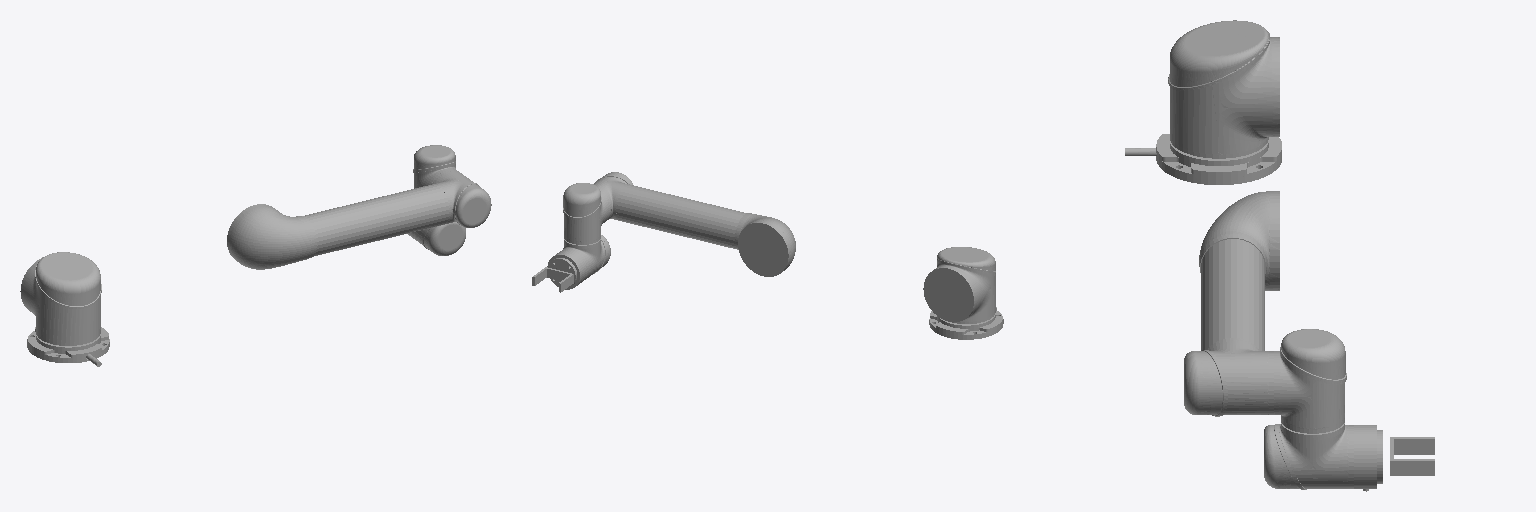
robot.urdf — ur5:
<?xml version="1.0" ?>
<!-- =================================================================================== -->
<!-- |    This document was autogenerated by xacro from [local-path]/devel/isae/install/share/ur_description/urdf/ur5_joint_limited_robot.urdf.xacro | -->
<!-- |    EDITING THIS FILE BY HAND IS NOT RECOMMENDED                                 | -->
<!-- =================================================================================== -->
<robot name="ur5" xmlns:xacro="http://www.ros.org/wiki/xacro">
  <!-- common stuff -->
  <gazebo>
    <plugin filename="libgazebo_ros_control.so" name="ros_control">
      <!--robotNamespace>/</robotNamespace-->
      <!--robotSimType>gazebo_ros_control/DefaultRobotHWSim</robotSimType-->
    </plugin>
    <!--
    <plugin name="gazebo_ros_power_monitor_controller" filename="libgazebo_ros_power_monitor.so">
      <alwaysOn>true</alwaysOn>
      <updateRate>1.0</updateRate>
      <timeout>5</timeout>
      <powerStateTopic>power_state</powerStateTopic>
      <powerStateRate>10.0</powerStateRate>
      <fullChargeCapacity>87.78</fullChargeCapacity>
      <dischargeRate>-474</dischargeRate>
      <chargeRate>525</chargeRate>
      <dischargeVoltage>15.52</dischargeVoltage>
      <chargeVoltage>16.41</chargeVoltage>
    </plugin>
-->
  </gazebo>
  <!-- ur5 -->
  <!-- Inertia parameters -->
  <!-- This mass might be incorrect -->
  <!-- Kinematic model -->
  <!-- Properties from urcontrol.conf -->
  <!--
    DH for UR5:
    a = [0.00000, -0.42500, -0.39225,  0.00000,  0.00000,  0.0000]
    d = [0.089159,  0.00000,  0.00000,  0.10915,  0.09465,  0.0823]
    alpha = [ 1.570796327, 0, 0, 1.570796327, -1.570796327, 0 ]
    q_home_offset = [0, -1.570796327, 0, -1.570796327, 0, 0]
    joint_direction = [-1, -1, 1, 1, 1, 1]
    mass = [3.7000, 8.3930, 2.2750, 1.2190, 1.2190, 0.1879]
    center_of_mass = [ [0, -0.02561, 0.00193], [0.2125, 0, 0.11336], [0.11993, 0.0, 0.0265], [0, -0.0018, 0.01634], [0, 0.0018,0.01634], [0, 0, -0.001159] ]
  -->
  <!-- Arbitrary offsets for shoulder/elbow joints -->
  <!-- measured from model -->
  <!-- measured from model -->
  <!-- link lengths used in model -->
  <!--property name="shoulder_height" value="0.089159" /-->
  <!--property name="shoulder_offset" value="0.13585" /-->
  <!-- shoulder_offset - elbow_offset + wrist_1_length = 0.10915 -->
  <!--property name="upper_arm_length" value="0.42500" /-->
  <!--property name="elbow_offset" value="0.1197" /-->
  <!-- CAD measured -->
  <!--property name="forearm_length" value="0.39225" /-->
  <!--property name="wrist_1_length" value="0.093" /-->
  <!-- CAD measured -->
  <!--property name="wrist_2_length" value="0.09465" /-->
  <!-- In CAD this distance is 0.930, but in the spec it is 0.09465 -->
  <!--property name="wrist_3_length" value="0.0823" /-->
  <!-- manually measured -->
  <!-- manually measured -->
  <!-- manually measured -->
  <!-- manually measured -->
  <!-- manually measured -->
  <!-- arm -->
  <link name="base_link">
    <visual>
      <geometry>
        <mesh filename="package://ur_description/meshes/ur5/visual/base.dae"/>
      </geometry>
      <material name="LightGrey">
        <color rgba="0.7 0.7 0.7 1.0"/>
      </material>
    </visual>
    <collision>
      <geometry>
        <mesh filename="package://ur_description/meshes/ur5/collision/base.stl"/>
      </geometry>
    </collision>
    <inertial>
      <mass value="4.0"/>
      <origin rpy="0 0 0" xyz="0.0 0.0 0.0"/>
      <inertia ixx="0.00443333156" ixy="0.0" ixz="0.0" iyy="0.00443333156" iyz="0.0" izz="0.0072"/>
    </inertial>
  </link>
  <joint name="shoulder_pan_joint" type="revolute">
    <parent link="base_link"/>
    <child link="shoulder_link"/>
    <origin rpy="0.0 0.0 0.0" xyz="0.0 0.0 0.089159"/>
    <axis xyz="0 0 1"/>
    <limit effort="150.0" lower="-3.14159265" upper="3.14159265" velocity="3.15"/>
    <dynamics damping="0.0" friction="0.0"/>
  </joint>
  <link name="shoulder_link">
    <visual>
      <geometry>
        <mesh filename="package://ur_description/meshes/ur5/visual/shoulder.dae"/>
      </geometry>
      <material name="LightGrey">
        <color rgba="0.7 0.7 0.7 1.0"/>
      </material>
    </visual>
    <collision>
      <geometry>
        <mesh filename="package://ur_description/meshes/ur5/collision/shoulder.stl"/>
      </geometry>
    </collision>
    <inertial>
      <mass value="3.7"/>
      <origin rpy="0 0 0" xyz="0.0 0.0 0.0"/>
      <inertia ixx="0.010267495893" ixy="0.0" ixz="0.0" iyy="0.010267495893" iyz="0.0" izz="0.00666"/>
    </inertial>
  </link>
  <joint name="shoulder_lift_joint" type="revolute">
    <parent link="shoulder_link"/>
    <child link="upper_arm_link"/>
    <origin rpy="0.0 1.570796325 0.0" xyz="0.0 0.13585 0.0"/>
    <axis xyz="0 1 0"/>
    <limit effort="150.0" lower="-3.14159265" upper="3.14159265" velocity="3.15"/>
    <dynamics damping="0.0" friction="0.0"/>
  </joint>
  <link name="upper_arm_link">
    <visual>
      <geometry>
        <mesh filename="package://ur_description/meshes/ur5/visual/upperarm.dae"/>
      </geometry>
      <material name="LightGrey">
        <color rgba="0.7 0.7 0.7 1.0"/>
      </material>
    </visual>
    <collision>
      <geometry>
        <mesh filename="package://ur_description/meshes/ur5/collision/upperarm.stl"/>
      </geometry>
    </collision>
    <inertial>
      <mass value="8.393"/>
      <origin rpy="0 0 0" xyz="0.0 0.0 0.28"/>
      <inertia ixx="0.22689067591" ixy="0.0" ixz="0.0" iyy="0.22689067591" iyz="0.0" izz="0.0151074"/>
    </inertial>
  </link>
  <joint name="elbow_joint" type="revolute">
    <parent link="upper_arm_link"/>
    <child link="forearm_link"/>
    <origin rpy="0.0 0.0 0.0" xyz="0.0 -0.1197 0.425"/>
    <axis xyz="0 1 0"/>
    <limit effort="150.0" lower="-3.14159265" upper="3.14159265" velocity="3.15"/>
    <dynamics damping="0.0" friction="0.0"/>
  </joint>
  <link name="forearm_link">
    <visual>
      <geometry>
        <mesh filename="package://ur_description/meshes/ur5/visual/forearm.dae"/>
      </geometry>
      <material name="LightGrey">
        <color rgba="0.7 0.7 0.7 1.0"/>
      </material>
    </visual>
    <collision>
      <geometry>
        <mesh filename="package://ur_description/meshes/ur5/collision/forearm.stl"/>
      </geometry>
    </collision>
    <inertial>
      <mass value="2.275"/>
      <origin rpy="0 0 0" xyz="0.0 0.0 0.25"/>
      <inertia ixx="0.049443313556" ixy="0.0" ixz="0.0" iyy="0.049443313556" iyz="0.0" izz="0.004095"/>
    </inertial>
  </link>
  <joint name="wrist_1_joint" type="revolute">
    <parent link="forearm_link"/>
    <child link="wrist_1_link"/>
    <origin rpy="0.0 1.570796325 0.0" xyz="0.0 0.0 0.39225"/>
    <axis xyz="0 1 0"/>
    <limit effort="28.0" lower="-3.14159265" upper="3.14159265" velocity="3.2"/>
    <dynamics damping="0.0" friction="0.0"/>
  </joint>
  <link name="wrist_1_link">
    <visual>
      <geometry>
        <mesh filename="package://ur_description/meshes/ur5/visual/wrist1.dae"/>
      </geometry>
      <material name="LightGrey">
        <color rgba="0.7 0.7 0.7 1.0"/>
      </material>
    </visual>
    <collision>
      <geometry>
        <mesh filename="package://ur_description/meshes/ur5/collision/wrist1.stl"/>
      </geometry>
    </collision>
    <inertial>
      <mass value="1.219"/>
      <origin rpy="0 0 0" xyz="0.0 0.0 0.0"/>
      <inertia ixx="0.111172755531" ixy="0.0" ixz="0.0" iyy="0.111172755531" iyz="0.0" izz="0.21942"/>
    </inertial>
  </link>
  <joint name="wrist_2_joint" type="revolute">
    <parent link="wrist_1_link"/>
    <child link="wrist_2_link"/>
    <origin rpy="0.0 0.0 0.0" xyz="0.0 0.093 0.0"/>
    <axis xyz="0 0 1"/>
    <limit effort="28.0" lower="-3.14159265" upper="3.14159265" velocity="3.2"/>
    <dynamics damping="0.0" friction="0.0"/>
  </joint>
  <link name="wrist_2_link">
    <visual>
      <geometry>
        <mesh filename="package://ur_description/meshes/ur5/visual/wrist2.dae"/>
      </geometry>
      <material name="LightGrey">
        <color rgba="0.7 0.7 0.7 1.0"/>
      </material>
    </visual>
    <collision>
      <geometry>
        <mesh filename="package://ur_description/meshes/ur5/collision/wrist2.stl"/>
      </geometry>
    </collision>
    <inertial>
      <mass value="1.219"/>
      <origin rpy="0 0 0" xyz="0.0 0.0 0.0"/>
      <inertia ixx="0.111172755531" ixy="0.0" ixz="0.0" iyy="0.111172755531" iyz="0.0" izz="0.21942"/>
    </inertial>
  </link>
  <joint name="wrist_3_joint" type="revolute">
    <parent link="wrist_2_link"/>
    <child link="wrist_3_link"/>
    <origin rpy="0.0 0.0 0.0" xyz="0.0 0.0 0.09465"/>
    <axis xyz="0 1 0"/>
    <limit effort="28.0" lower="-3.14159265" upper="3.14159265" velocity="3.2"/>
    <dynamics damping="0.0" friction="0.0"/>
  </joint>
  <link name="wrist_3_link">
    <visual>
      <geometry>
        <mesh filename="package://ur_description/meshes/ur5/visual/wrist3.dae"/>
      </geometry>
      <material name="LightGrey">
        <color rgba="0.7 0.7 0.7 1.0"/>
      </material>
    </visual>
    <collision>
      <geometry>
        <mesh filename="package://ur_description/meshes/ur5/collision/wrist3.stl"/>
      </geometry>
    </collision>
    <inertial>
      <mass value="0.1879"/>
      <origin rpy="0 0 0" xyz="0.0 0.0 0.0"/>
      <inertia ixx="0.0171364731454" ixy="0.0" ixz="0.0" iyy="0.0171364731454" iyz="0.0" izz="0.033822"/>
    </inertial>
  </link>
  <joint name="ee_fixed_joint" type="fixed">
    <parent link="wrist_3_link"/>
    <child link="ee_link"/>
    <origin rpy="0.0 0.0 1.570796325" xyz="0.0 0.0823 0.0"/>
  </joint>
  <link name="ee_link">
    <inertial>
      <mass value="0"/>
      <origin rpy="0 0 0" xyz="0 0 0"/>
      <inertia ixx="0" ixy="0" ixz="0" iyy="0" iyz="0" izz="0"/>
    </inertial>
    <collision>
      <geometry>
        <box size="0.01 0.01 0.01"/>
      </geometry>
      <origin rpy="0 0 0" xyz="-0.01 0 0"/>
    </collision>
  </link>
  <transmission name="shoulder_pan_trans">
    <type>transmission_interface/SimpleTransmission</type>
    <joint name="shoulder_pan_joint">
      <hardwareInterface>PositionJointInterface</hardwareInterface>
    </joint>
    <actuator name="shoulder_pan_motor">
      <mechanicalReduction>1</mechanicalReduction>
    </actuator>
  </transmission>
  <transmission name="shoulder_lift_trans">
    <type>transmission_interface/SimpleTransmission</type>
    <joint name="shoulder_lift_joint">
      <hardwareInterface>PositionJointInterface</hardwareInterface>
    </joint>
    <actuator name="shoulder_lift_motor">
      <mechanicalReduction>1</mechanicalReduction>
    </actuator>
  </transmission>
  <transmission name="elbow_trans">
    <type>transmission_interface/SimpleTransmission</type>
    <joint name="elbow_joint">
      <hardwareInterface>PositionJointInterface</hardwareInterface>
    </joint>
    <actuator name="elbow_motor">
      <mechanicalReduction>1</mechanicalReduction>
    </actuator>
  </transmission>
  <transmission name="wrist_1_trans">
    <type>transmission_interface/SimpleTransmission</type>
    <joint name="wrist_1_joint">
      <hardwareInterface>PositionJointInterface</hardwareInterface>
    </joint>
    <actuator name="wrist_1_motor">
      <mechanicalReduction>1</mechanicalReduction>
    </actuator>
  </transmission>
  <transmission name="wrist_2_trans">
    <type>transmission_interface/SimpleTransmission</type>
    <joint name="wrist_2_joint">
      <hardwareInterface>PositionJointInterface</hardwareInterface>
    </joint>
    <actuator name="wrist_2_motor">
      <mechanicalReduction>1</mechanicalReduction>
    </actuator>
  </transmission>
  <transmission name="wrist_3_trans">
    <type>transmission_interface/SimpleTransmission</type>
    <joint name="wrist_3_joint">
      <hardwareInterface>PositionJointInterface</hardwareInterface>
    </joint>
    <actuator name="wrist_3_motor">
      <mechanicalReduction>1</mechanicalReduction>
    </actuator>
  </transmission>
  <!-- nothing to do here at the moment -->
  <!-- ROS base_link to UR 'Base' Coordinates transform -->
  <link name="base">
    <inertial>
      <mass value="0"/>
      <origin rpy="0 0 0" xyz="0 0 0"/>
      <inertia ixx="0" ixy="0" ixz="0" iyy="0" iyz="0" izz="0"/>
    </inertial>
  </link>
  <joint name="base_link-base_fixed_joint" type="fixed">
    <!-- NOTE: this rotation is only needed as long as base_link itself is
                 not corrected wrt the real robot (ie: rotated over 180
                 degrees)
      -->
    <origin rpy="0 0 -3.14159265" xyz="0 0 0"/>
    <parent link="base_link"/>
    <child link="base"/>
  </joint>
  <!-- Frame coincident with all-zeros TCP on UR controller -->
  <link name="tool0">
    <inertial>
      <mass value="0"/>
      <origin rpy="0 0 0" xyz="0 0 0"/>
      <inertia ixx="0" ixy="0" ixz="0" iyy="0" iyz="0" izz="0"/>
    </inertial>
    <visual>
      <geometry>
	<box size="0.005 0.02 0.05" />
      </geometry>
      <origin xyz="0.03 0 0.035" />
      <material name="LightGrey">
        <color rgba="0.7 0.7 0.7 1.0"/>
      </material>
    </visual>
    <visual>
      <geometry>
	<box size="0.005 0.02 0.05" />
      </geometry>
      <origin xyz="-0.03 0 0.035" />
      <material name="LightGrey">
        <color rgba="0.7 0.7 0.7 1.0"/>
      </material>
    </visual>
    <visual>
      <geometry>
	<box size="0.065 0.02 0.005" />
      </geometry>
      <origin xyz="0 0 0.01" />
      <material name="LightGrey">
        <color rgba="0.7 0.7 0.7 1.0"/>
      </material>
    </visual>

    <collision>
      <geometry>
	<box size="0.005 0.02 0.05" />
      </geometry>
      <origin xyz="0.03 0 0.035" />
    </collision>
    <collision>
      <geometry>
	<box size="0.005 0.02 0.05" />
      </geometry>
      <origin xyz="-0.03 0 0.035" />
    </collision>
    <collision>
      <geometry>
	<box size="0.065 0.02 0.005" />
      </geometry>
      <origin xyz="0 0 0.01" />
    </collision>
  </link>
  <joint name="wrist_3_link-tool0_fixed_joint" type="fixed">
    <origin rpy="-1.570796325 0 0" xyz="0 0.0823 0"/>
    <parent link="wrist_3_link"/>
    <child link="tool0"/>
  </joint>
  <link name="world"/>
  <joint name="world_joint" type="fixed">
    <parent link="world"/>
    <child link="base_link"/>
    <origin rpy="0.0 0.0 0.0" xyz="0.0 0.0 0.0"/>
  </joint>
</robot>

--- What the picture shows (computed from the rendered views, not written in the file) ---
Views: 3 orthographic renders of the robot side by side, from view 1: azimuth 30°, elevation 25°; view 2: azimuth 150°, elevation 25°; view 3: azimuth 270°, elevation 25°.
Robot: ur5 — 11 links, 10 joints (6 revolute, 4 fixed); root link world; default pose: all joints at 0.
Links seen in each view (by area): view 1: forearm_link, shoulder_link, base_link, wrist_1_link, wrist_2_link; view 2: forearm_link, shoulder_link, wrist_1_link, base_link, wrist_2_link, wrist_3_link, tool0; view 3: forearm_link, shoulder_link, wrist_1_link, wrist_2_link, base_link, wrist_3_link, tool0.
Link boxes in pixels (x1=…): forearm_link: x1=227, y1=170, x2=491, y2=269; shoulder_link: x1=20, y1=252, x2=101, y2=345; base_link: x1=27, y1=327, x2=109, y2=366; wrist_1_link: x1=413, y1=145, x2=456, y2=188; wrist_2_link: x1=408, y1=222, x2=465, y2=255; forearm_link: x1=594, y1=172, x2=795, y2=276; shoulder_link: x1=923, y1=247, x2=995, y2=323; wrist_1_link: x1=563, y1=183, x2=609, y2=244; base_link: x1=929, y1=307, x2=1003, y2=339; wrist_2_link: x1=563, y1=235, x2=610, y2=279; wrist_3_link: x1=547, y1=250, x2=586, y2=289; tool0: x1=532, y1=267, x2=573, y2=292; forearm_link: x1=1184, y1=191, x2=1279, y2=416; shoulder_link: x1=1168, y1=20, x2=1279, y2=158; wrist_1_link: x1=1274, y1=329, x2=1346, y2=433; wrist_2_link: x1=1264, y1=423, x2=1353, y2=489; base_link: x1=1125, y1=134, x2=1281, y2=184; wrist_3_link: x1=1354, y1=425, x2=1382, y2=491; tool0: x1=1390, y1=437, x2=1434, y2=475.
Size in the robot's own frame: 0.9295 by 0.3615 by 0.2062 metres.
6 mesh visuals loaded from 7 distinct referenced files (6 Collada DAE); not drawn: 1 (reference not matched to a file when rendering).